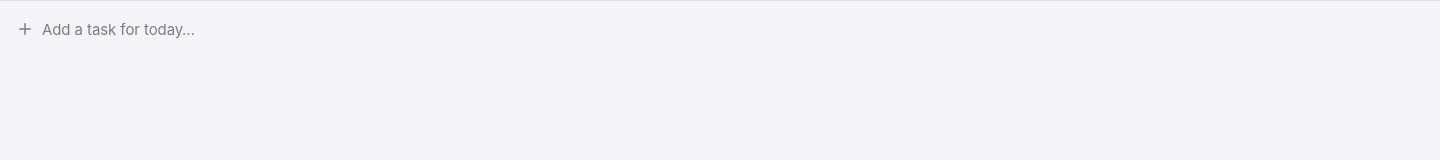
it: QuickAdd › posts the task for the shown date and clears the field
The image size is (1440, 160).
Step 1. Type "Call the bank" into the field named "Add task" → {"x": 733, "y": 29}, box [42,11,1424,47]
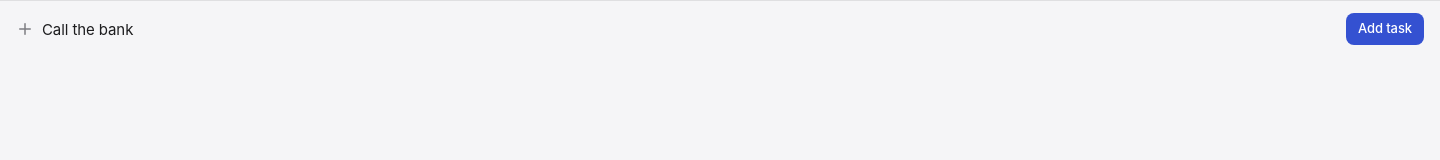
Step 2. Click the button "Add task" → {"x": 1385, "y": 29}, box [1346,13,1424,45]
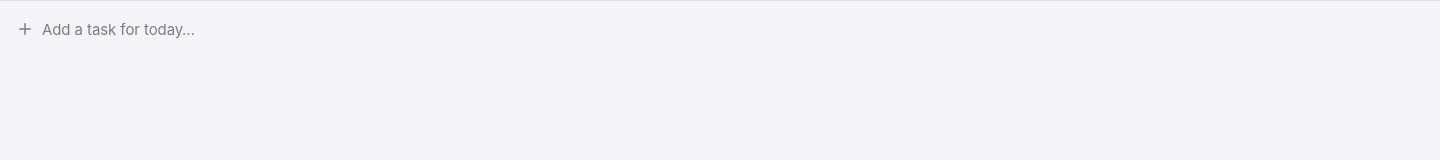
Check: the field named "Add task" is empty, box [42,11,1424,47]
